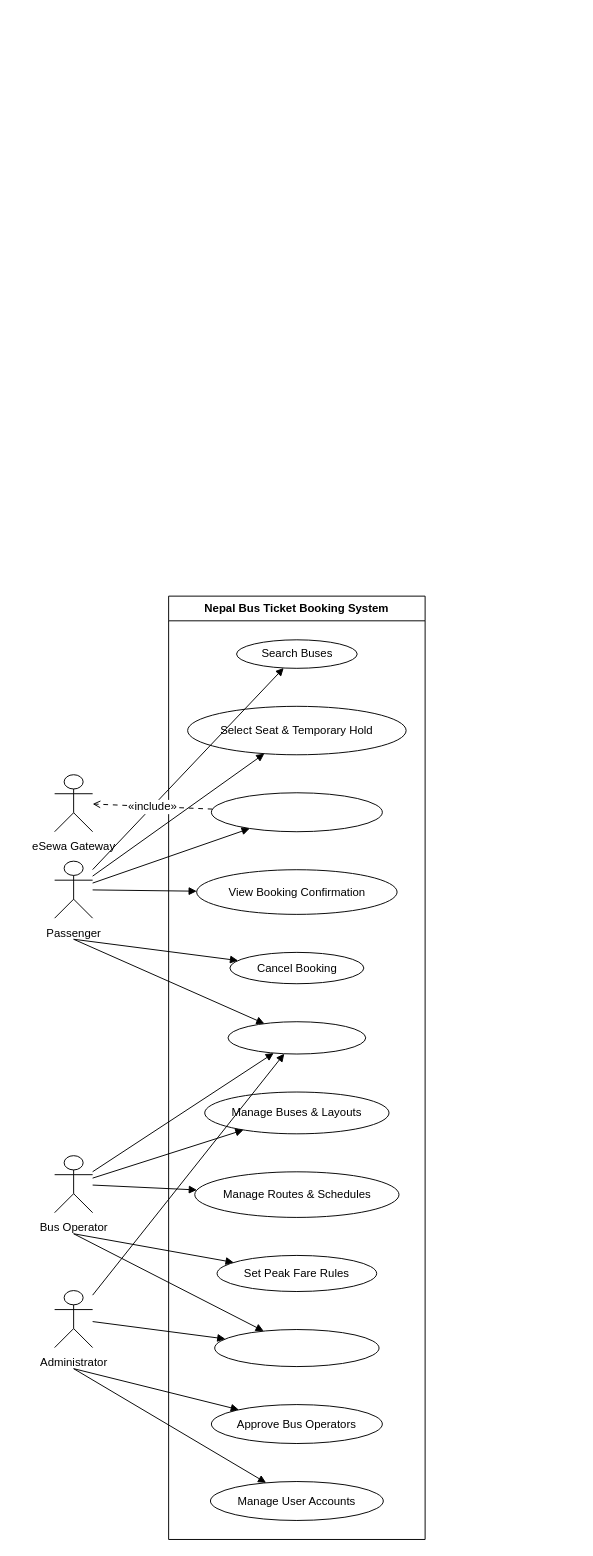
The diagram is 593 pixels wide and 1556 high, and some of its shapes have lost their labels. Here are the shapes that lost their labels. From the top down, the centre of each, then its label:
(x=296, y=812): Make Online Payment
(x=296, y=1037): Register & Login
(x=296, y=1348): View System Reports
